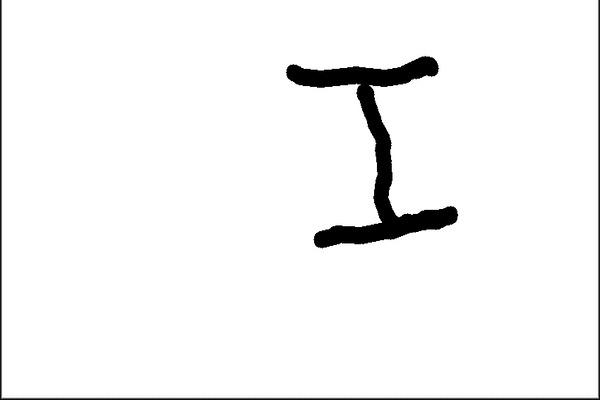i: (279, 49, 464, 247)
